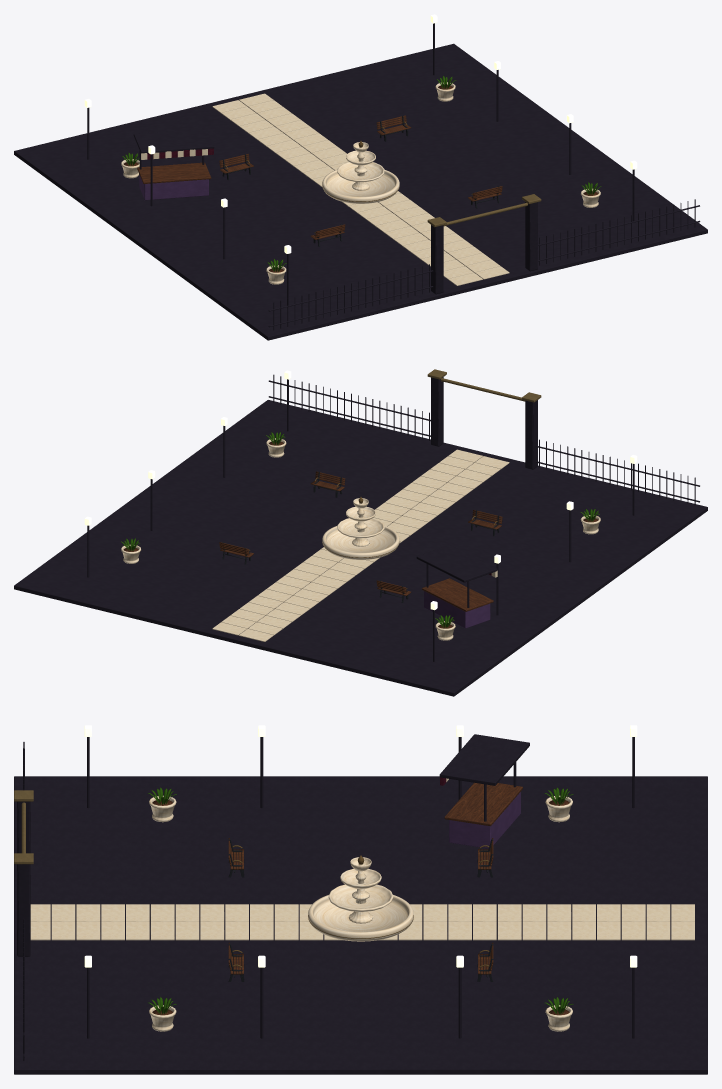
File: explore3d__finish_plaza.glb
3 views of the same model, one above another, from view 1: azimuth 30°, elevation 25°; view 2: azimuth 150°, elevation 25°; view 3: azimuth 270°, elevation 25° (orthographic). The views are drawn at different scales.
Visible parts, largest first — view 1: exterior_arch_header; view 2: exterior_arch_header; view 3: exterior_arch_header.
Boxes of the visible parts, x1,y1,x2,y2 form: exterior_arch_header: [14, 14, 707, 340]; exterior_arch_header: [14, 369, 707, 696]; exterior_arch_header: [14, 725, 707, 1074].
Size of the model in its own units: 28 by 4.57 by 28.
Materials: 13 (12 with a texture image).
